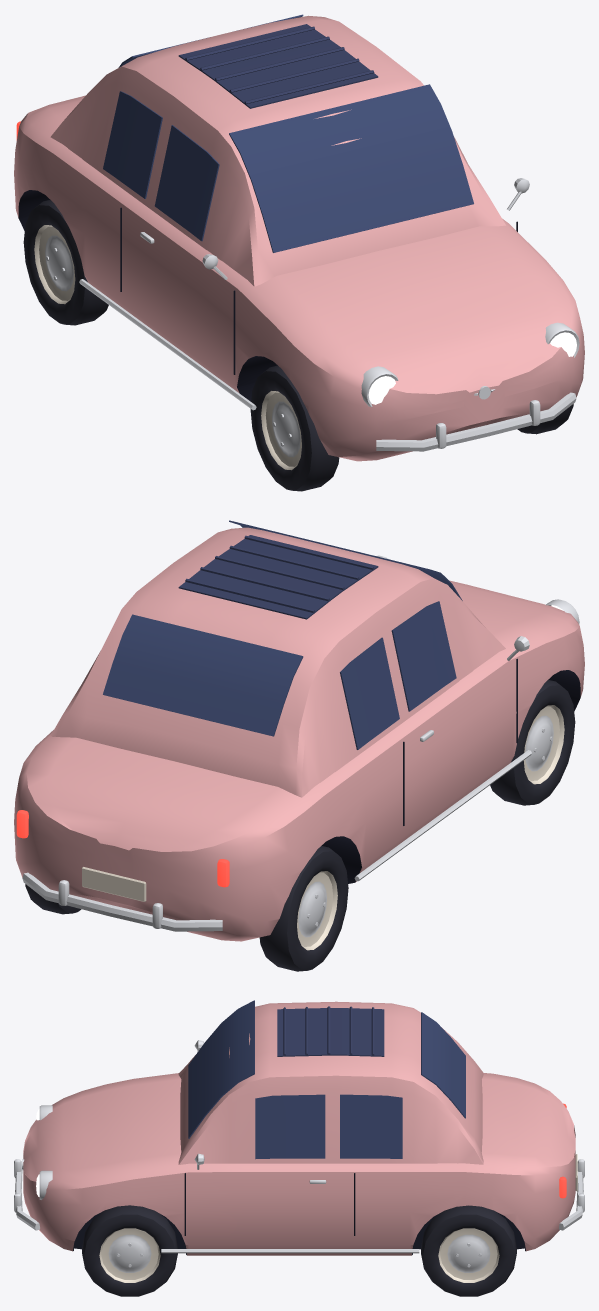
The model's file is city_car.glb.
The picture shows the model from 3 angles, top to bottom: view 1: azimuth 30°, elevation 25°; view 2: azimuth 150°, elevation 25°; view 3: azimuth 270°, elevation 25°; orthographic projection. The views are drawn at different scales.
Visible parts, largest first — view 1: body, wheel_fr, wheel_rr; view 2: body, wheel_rr, wheel_fr; view 3: body, wheel_rl, wheel_fl.
Part boxes in pixels (box(x1,y1,x2,y2)): body: box(14, 14, 584, 461); wheel_fr: box(250, 365, 339, 491); wheel_rr: box(23, 199, 108, 325); body: box(14, 520, 584, 941); wheel_rr: box(259, 845, 348, 971); wheel_fr: box(490, 679, 575, 805); body: box(14, 1000, 584, 1255); wheel_rl: box(421, 1205, 516, 1296); wheel_fl: box(82, 1205, 177, 1296).
Size of the model in its own units: 1.52 by 1.32 by 3.1.
3 materials, 3 textured.
